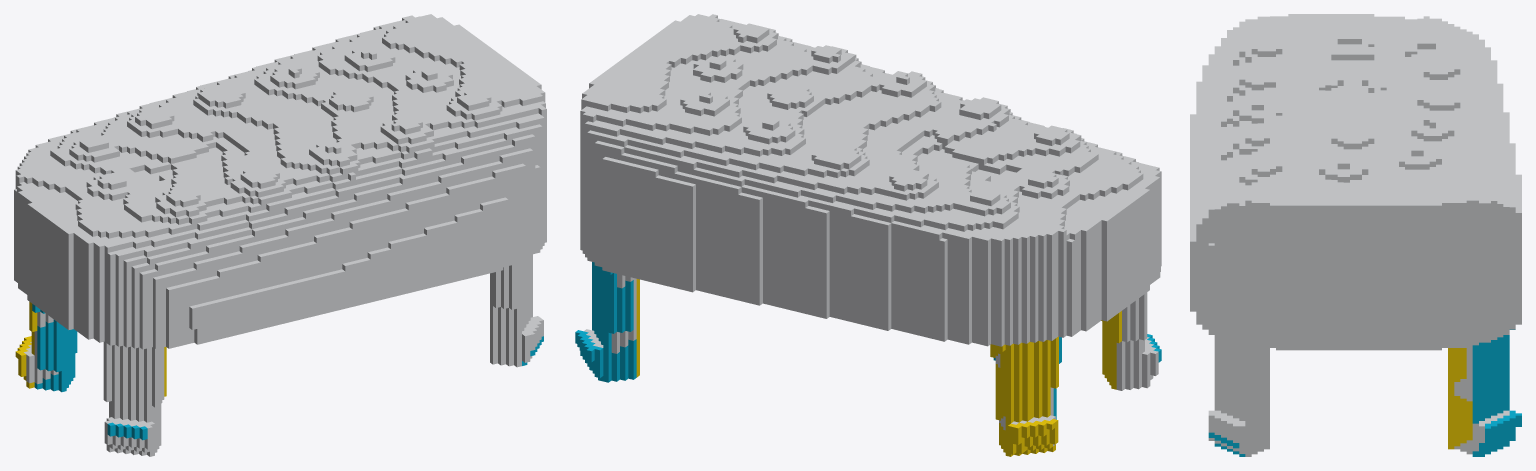
3 renders of one model, left to right at view 1: azimuth 30°, elevation 25°; view 2: azimuth 150°, elevation 25°; view 3: azimuth 270°, elevation 25°, orthographic. The views are drawn at different scales.
Parts seen in each view (by area): view 1: =>[0:1:1:1156], =>[0:1:1:310], =>[0:1:1:649], =>[0:1:1:257], =>[0:1:1:667], =>[0:1:1:648], =>[0:1:1:434], =>[0:1:1:652], =>[0:1:1:720], =>[0:1:1:668], =>[0:1:1:1159], =>[0:1:1:647] (+35 smaller); view 2: =>[0:1:1:562], =>[0:1:1:1257], =>[0:1:1:1072], =>[0:1:1:1084], =>[0:1:1:677], =>[0:1:1:310], =>[0:1:1:257], =>[0:1:1:1171], =>[0:1:1:1996], =>[0:1:1:668], =>[0:1:1:434], =>[0:1:1:1465] (+27 smaller); view 3: =>[0:1:1:967], =>[0:1:1:560], =>[0:1:1:257], =>[0:1:1:559], =>[0:1:1:687], =>[0:1:1:686], =>[0:1:1:1602], =>[0:1:1:1603], =>[0:1:1:434], =>[0:1:1:561], =>[0:1:1:1661], =>[0:1:1:1461] (+55 smaller).
Boxes of the visible parts, x1,y1,x2,y2 form: =>[0:1:1:1156]: (197,233,503,344); =>[0:1:1:310]: (27,204,68,329); =>[0:1:1:649]: (189,248,342,306); =>[0:1:1:257]: (411,14,542,100); =>[0:1:1:667]: (73,233,88,339); =>[0:1:1:648]: (505,166,525,239); =>[0:1:1:434]: (222,77,325,147); =>[0:1:1:652]: (388,206,423,241); =>[0:1:1:720]: (78,205,141,232); =>[0:1:1:668]: (18,192,31,294); =>[0:1:1:1159]: (345,227,503,271); =>[0:1:1:647]: (169,285,189,332); =>[0:1:1:562]: (602,164,692,292); =>[0:1:1:1257]: (696,184,759,305); =>[0:1:1:1072]: (763,198,826,318); =>[0:1:1:1084]: (829,211,888,330); =>[0:1:1:677]: (891,228,944,341); =>[0:1:1:310]: (1107,190,1149,321); =>[0:1:1:257]: (581,14,718,104); =>[0:1:1:1171]: (947,234,968,344); =>[0:1:1:1996]: (972,237,987,346); =>[0:1:1:668]: (1086,220,1101,331); =>[0:1:1:434]: (784,93,897,169); =>[0:1:1:1465]: (991,238,1001,346); =>[0:1:1:967]: (1276,205,1441,350); =>[0:1:1:560]: (1442,203,1466,347); =>[0:1:1:257]: (1245,190,1478,200); =>[0:1:1:559]: (1251,270,1275,347); =>[0:1:1:687]: (1466,200,1478,345); =>[0:1:1:686]: (1239,206,1251,345); =>[0:1:1:1602]: (1227,203,1239,342); =>[0:1:1:1603]: (1479,203,1490,342); =>[0:1:1:434]: (1282,110,1478,118); =>[0:1:1:561]: (1251,203,1269,269); =>[0:1:1:1661]: (1491,201,1497,339); =>[0:1:1:1461]: (1497,204,1503,337).
Size of the model in its own units: 39.22 by 20.69 by 23.27.
